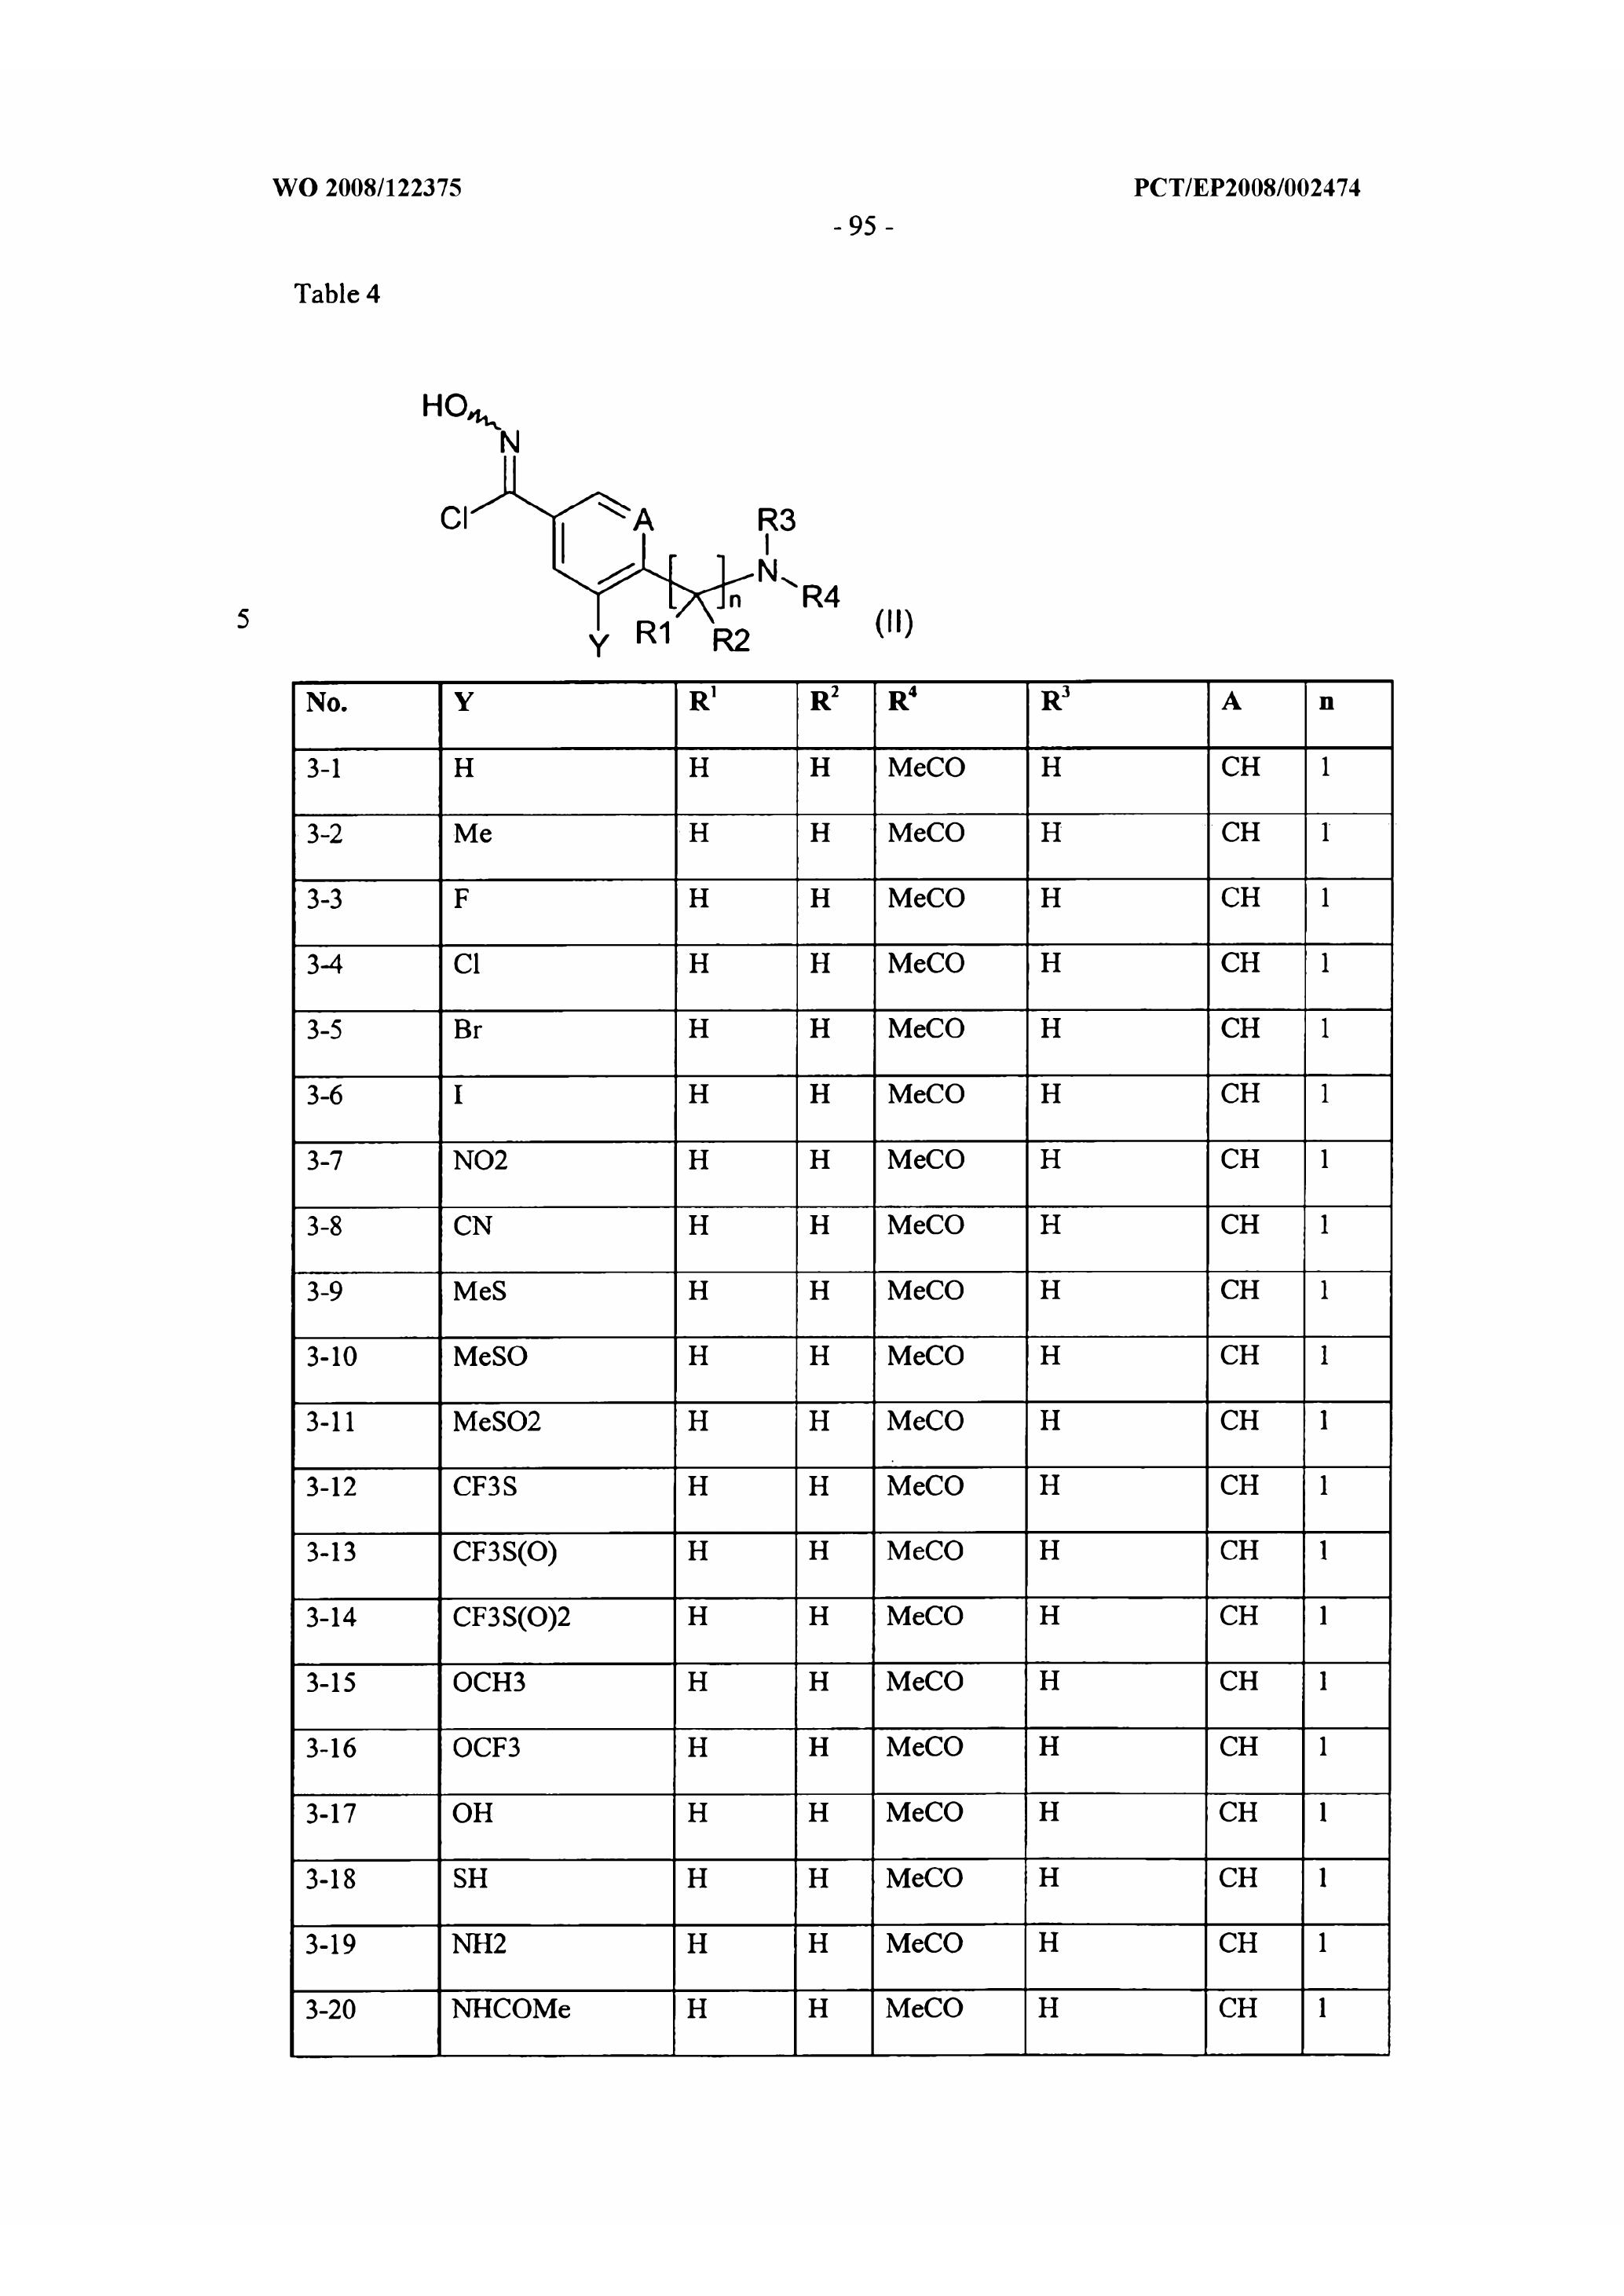markush-structures: (378, 332, 863, 666)
